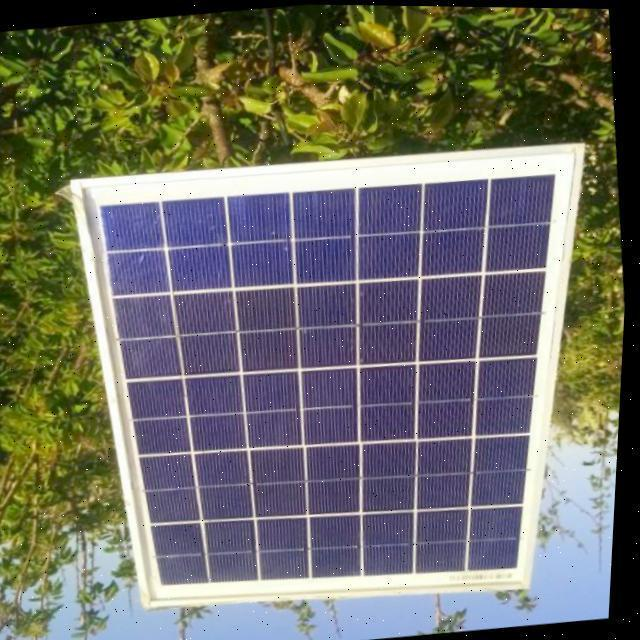Normal Solar Panel: (53, 126, 630, 632)
